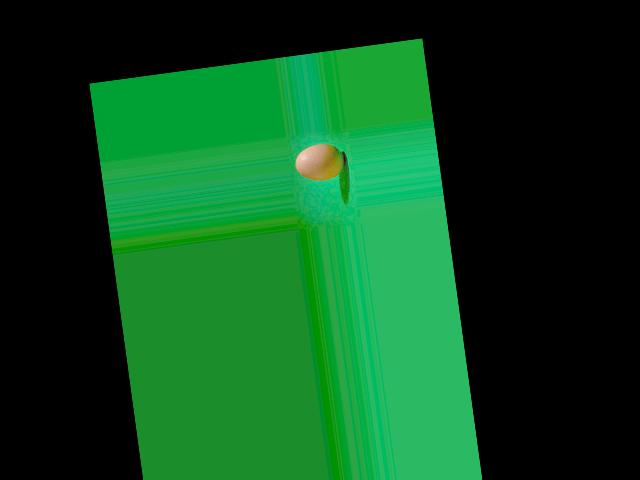egg: (293, 141, 346, 184)
